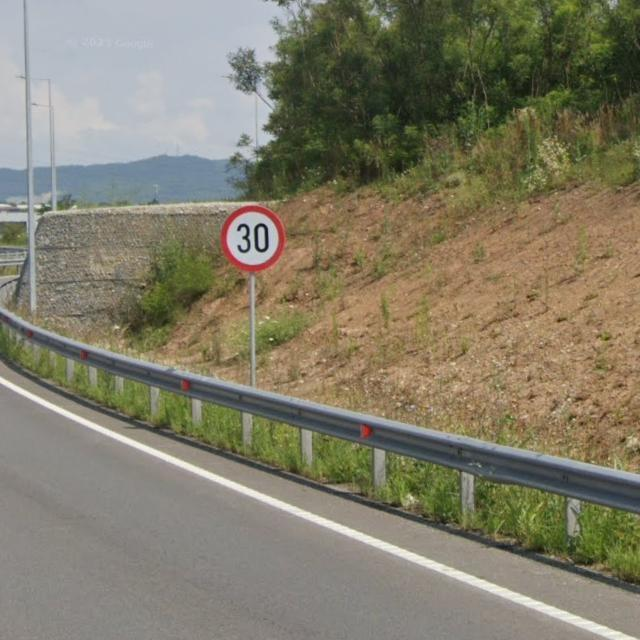forb_speed_over_30: (223, 205, 286, 273)
